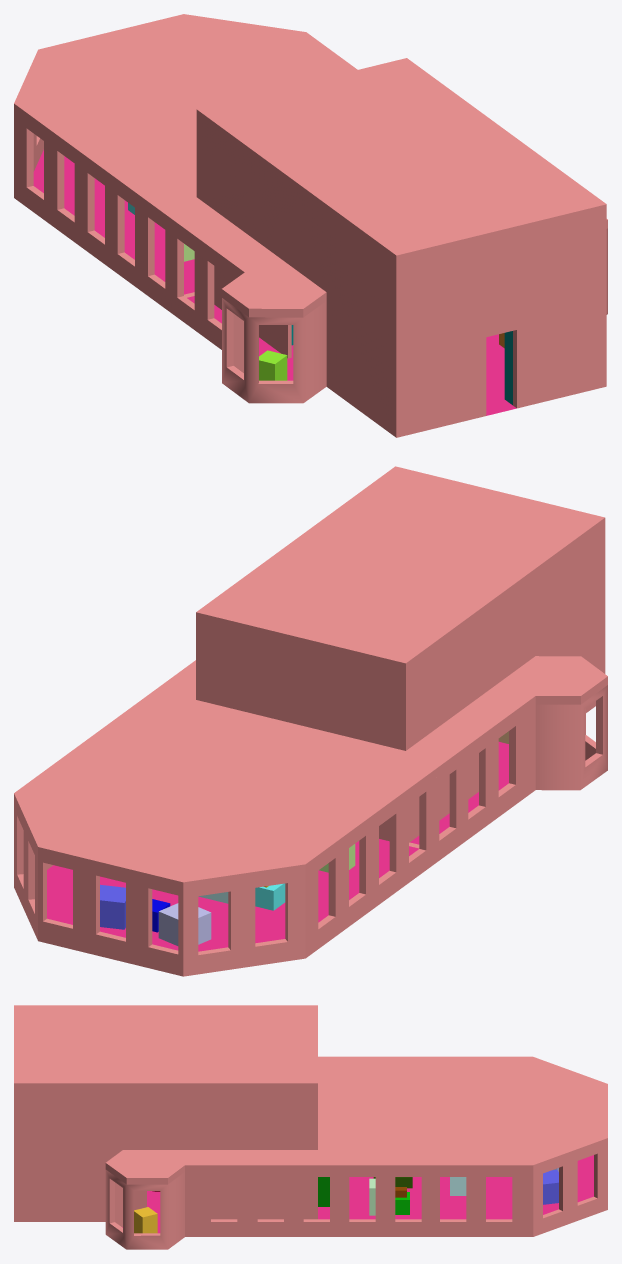
The model's file is DEMO1.1.fbx.
The picture shows the model from 3 angles, top to bottom: view 1: azimuth 30°, elevation 25°; view 2: azimuth 150°, elevation 25°; view 3: azimuth 270°, elevation 25°; orthographic projection. The views are drawn at different scales.
Parts seen in each view (by area): view 1: Model; view 2: Model; view 3: Model.
Part boxes in pixels (x1,y1,x2,y2): Model: [14, 14, 607, 437]; Model: [14, 466, 607, 976]; Model: [14, 1005, 607, 1249].
Bounding box in the file's own units: 10553 × 5097 × 19793.
